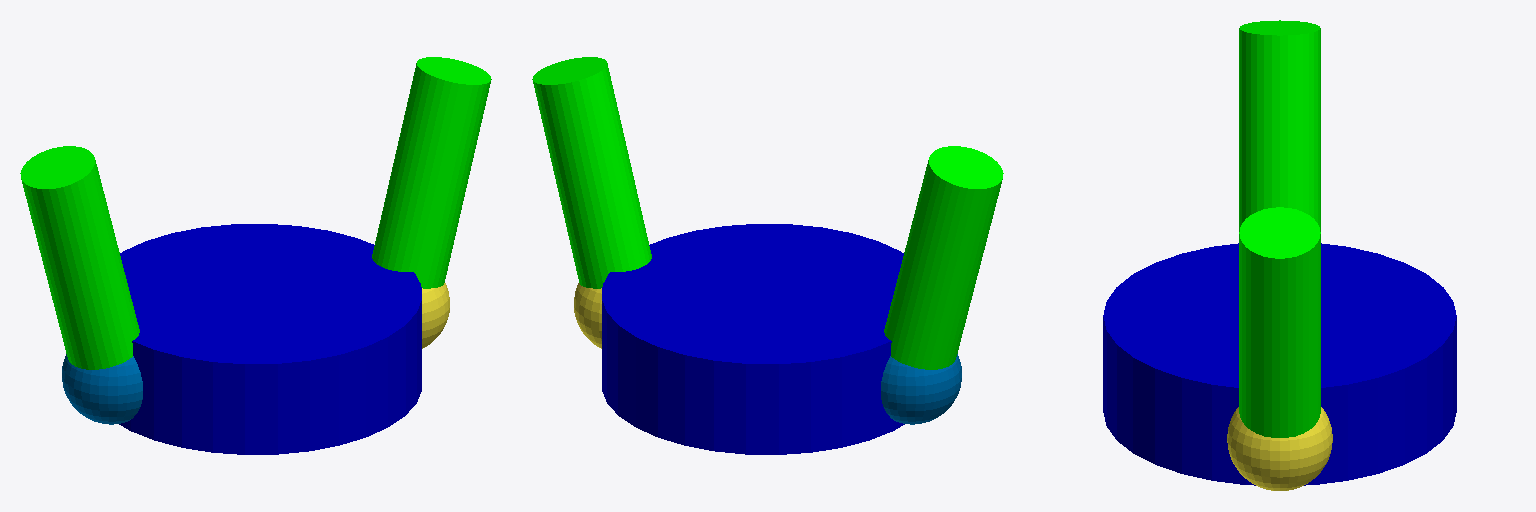
URDF robot description (gripper_2f_1j):
<?xml version='1.0' encoding='UTF-8'?>
<robot name="gripper_2f_1j">
  <link name="palm">
    <inertial>
      <origin xyz="0.0 0.0 0.0" rpy="0.0 -0.0 0.0"/>
      <mass value="1.0"/>
      <inertia ixx="1.0" ixy="0.0" ixz="0.0" iyy="1.0" iyz="0.0" izz="1.0"/>
    </inertial>
    <visual>
      <geometry>
        <cylinder radius="0.05" length="0.03"/>
      </geometry>
      <material name="blue"/>
      <origin xyz="0.0 0.0 0.0" rpy="0.0 -0.0 0.0"/>
    </visual>
    <collision>
      <geometry>
        <cylinder radius="0.05" length="0.03"/>
      </geometry>
      <origin xyz="0.0 0.0 0.0" rpy="0.0 0.0 0.0"/>
    </collision>
  </link>
  <link name="f11">
    <inertial>
      <origin xyz="0.0 0.0 0.0" rpy="0.0 -0.0 0.0"/>
      <mass value="1.0"/>
      <inertia ixx="1.0" ixy="0.0" ixz="0.0" iyy="1.0" iyz="0.0" izz="1.0"/>
    </inertial>
    <visual>
      <geometry>
        <cylinder radius="0.011507877464463523" length="0.07514293209327846"/>
      </geometry>
      <material name="green"/>
      <origin xyz="0.0 0.0 0.03757146604663923" rpy="0.0 -0.0 0.0"/>
    </visual>
    <collision>
      <geometry>
        <cylinder radius="0.011507877464463523" length="0.07514293209327846"/>
      </geometry>
      <origin xyz="0.0 0.0 0.05" rpy="0.0 0.0 0.0"/>
    </collision>
  </link>
  <link name="f21">
    <inertial>
      <origin xyz="0.0 0.0 0.0" rpy="0.0 -0.0 0.0"/>
      <mass value="1.0"/>
      <inertia ixx="1.0" ixy="0.0" ixz="0.0" iyy="1.0" iyz="0.0" izz="1.0"/>
    </inertial>
    <visual>
      <geometry>
        <cylinder radius="0.011507877464463523" length="0.07514293209327846"/>
      </geometry>
      <material name="green"/>
      <origin xyz="0.0 0.0 0.03757146604663923" rpy="0.0 -0.0 0.0"/>
    </visual>
    <collision>
      <geometry>
        <cylinder radius="0.011507877464463523" length="0.07514293209327846"/>
      </geometry>
      <origin xyz="0.0 0.0 0.05" rpy="0.0 0.0 0.0"/>
    </collision>
  </link>
  <link name="f11_base">
    <inertial>
      <origin xyz="0.0 0.0 0.0" rpy="0.0 -0.0 0.0"/>
      <mass value="1.0"/>
      <inertia ixx="1.0" ixy="0.0" ixz="0.0" iyy="1.0" iyz="0.0" izz="1.0"/>
    </inertial>
    <visual>
      <geometry>
        <sphere radius="0.015"/>
      </geometry>
      <origin xyz="0.0 0.0 0.0" rpy="0.0 -0.0 0.0"/>
    </visual>
  </link>
  <link name="f21_base">
    <inertial>
      <origin xyz="0.0 0.0 0.0" rpy="0.0 -0.0 0.0"/>
      <mass value="1.0"/>
      <inertia ixx="1.0" ixy="0.0" ixz="0.0" iyy="1.0" iyz="0.0" izz="1.0"/>
    </inertial>
    <visual>
      <geometry>
        <sphere radius="0.015"/>
      </geometry>
      <origin xyz="0.0 0.0 0.0" rpy="0.0 -0.0 0.0"/>
    </visual>
  </link>
  <joint name="f11_joint" type="revolute">
    <dynamics damping="100.0" friction="1.0"/>
    <limit effort="30.0" velocity="2.0" lower="-0.6" upper="0.25"/>
    <parent link="f11_base"/>
    <child link="f11"/>
    <axis xyz="0. 1. 0."/>
    <origin xyz="0.0 0.0 0.0" rpy="0.0 0.25 0.0"/>
  </joint>
  <joint name="f21_joint" type="revolute">
    <dynamics damping="100.0" friction="1.0"/>
    <limit effort="30.0" velocity="2.0" lower="-0.6" upper="0.25"/>
    <parent link="f21_base"/>
    <child link="f21"/>
    <axis xyz=" 0. -1.  0."/>
    <origin xyz="0.0 0.0 0.0" rpy="0.0 -0.25 0.0"/>
  </joint>
  <joint name="f11_base_joint" type="fixed">
    <parent link="palm"/>
    <child link="f11_base"/>
    <axis xyz="1. 0. 0."/>
    <origin xyz="0.05 0.0 0.0" rpy="0.0 0.0 0.0"/>
  </joint>
  <joint name="f21_base_joint" type="fixed">
    <parent link="palm"/>
    <child link="f21_base"/>
    <axis xyz="1. 0. 0."/>
    <origin xyz="-0.05 -0.0 0.0" rpy="0.0 0.0 0.0"/>
  </joint>
  <material name="blue">
    <color rgba="0.  0.  0.8 1. "/>
  </material>
  <material name="green">
    <color rgba="0. 1. 0. 1."/>
  </material>
</robot>

--- Facts derived from the render (not from the file) ---
Views: 3 orthographic renders of the robot side by side, from view 1: azimuth 30°, elevation 25°; view 2: azimuth 150°, elevation 25°; view 3: azimuth 270°, elevation 25°.
Robot: gripper_2f_1j — 5 links, 4 joints (2 revolute, 2 fixed); root link palm; default pose: every joint at zero.
Visible links, largest first — view 1: palm, f11, f21, f21_base, f11_base; view 2: palm, f11, f21, f21_base, f11_base; view 3: palm, f11, f21, f11_base.
Link boxes in pixels (box(x1,y1,x2,y2)): palm: box(119, 224, 421, 454); f11: box(372, 57, 491, 288); f21: box(20, 146, 139, 369); f21_base: box(62, 354, 142, 424); f11_base: box(422, 283, 449, 348); palm: box(602, 224, 904, 454); f11: box(532, 57, 651, 288); f21: box(884, 146, 1003, 369); f21_base: box(881, 354, 961, 424); f11_base: box(574, 283, 601, 348); palm: box(1103, 243, 1456, 485); f11: box(1239, 207, 1320, 437); f21: box(1239, 20, 1320, 231); f11_base: box(1227, 407, 1332, 490).
Size in the robot's own frame: 0.1595 by 0.1 by 0.0907 metres.
Geometry: primitives only (box / cylinder / sphere), no mesh files.